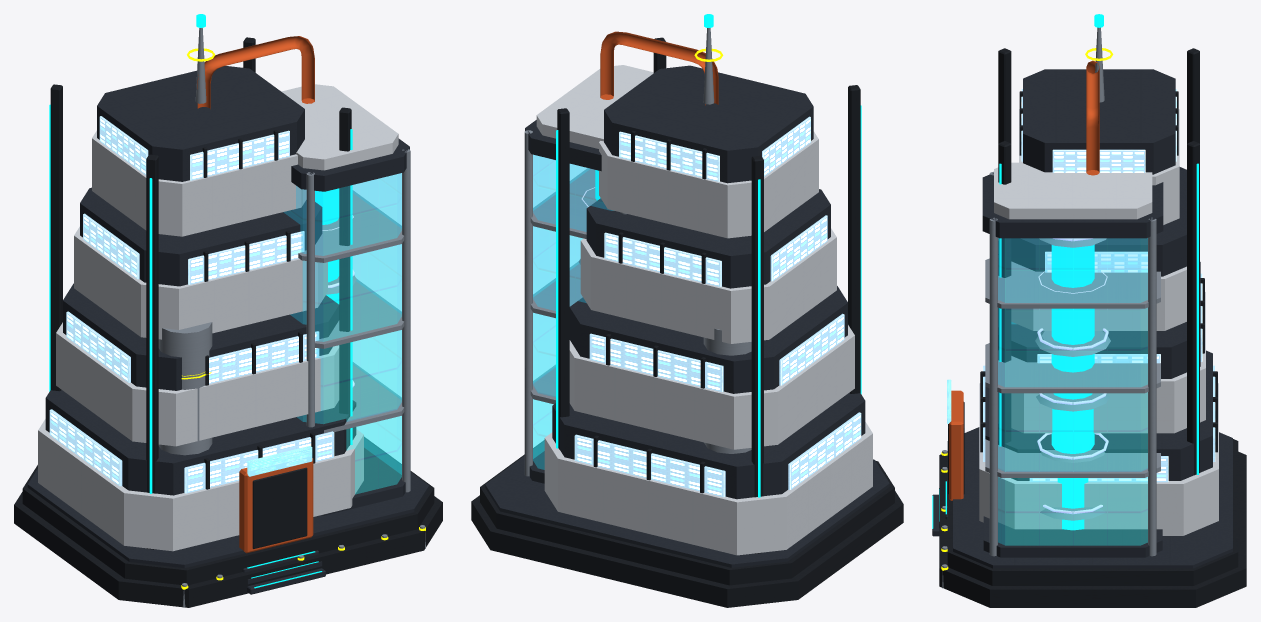
File: bldg_19_r1_04.glb
The picture shows the model from 3 angles, left to right: view 1: azimuth 30°, elevation 25°; view 2: azimuth 150°, elevation 25°; view 3: azimuth 270°, elevation 25°; orthographic projection. The views are drawn at different scales.
Visible parts, largest first — view 1: Bldg19_C04_aero_white, Bldg19_C04_carbon_slate, Bldg19_C04_gunmetal, Bldg19_C04_glass_cyan, Bldg19_C04_window_lit, Bldg19_C04_steel_machined, Bldg19_C04_accent_orange, Bldg19_C04_led_cyan, Bldg19_C04_marquee; view 2: Bldg19_C04_aero_white, Bldg19_C04_carbon_slate, Bldg19_C04_gunmetal, Bldg19_C04_window_lit, Bldg19_C04_glass_cyan, Bldg19_C04_steel_machined, Bldg19_C04_led_cyan, Bldg19_C04_accent_orange; view 3: Bldg19_C04_glass_cyan, Bldg19_C04_carbon_slate, Bldg19_C04_aero_white, Bldg19_C04_gunmetal, Bldg19_C04_steel_machined, Bldg19_C04_led_cyan, Bldg19_C04_window_lit, Bldg19_C04_accent_orange, Bldg19_C04_led_uv.
Part boxes in pixels (x1,y1,x2,y2): Bldg19_C04_aero_white: (38, 84, 398, 551); Bldg19_C04_carbon_slate: (27, 66, 429, 594); Bldg19_C04_gunmetal: (14, 37, 442, 607); Bldg19_C04_glass_cyan: (283, 173, 401, 494); Bldg19_C04_window_lit: (49, 116, 334, 493); Bldg19_C04_steel_machined: (158, 28, 425, 607); Bldg19_C04_accent_orange: (197, 36, 314, 553); Bldg19_C04_led_cyan: (49, 14, 352, 588); Bldg19_C04_marquee: (247, 446, 312, 476); Bldg19_C04_aero_white: (536, 65, 872, 555); Bldg19_C04_carbon_slate: (485, 65, 889, 567); Bldg19_C04_gunmetal: (471, 37, 903, 607); Bldg19_C04_window_lit: (574, 116, 861, 497); Bldg19_C04_glass_cyan: (533, 154, 613, 469); Bldg19_C04_steel_machined: (524, 28, 751, 476); Bldg19_C04_led_cyan: (556, 14, 861, 497); Bldg19_C04_accent_orange: (600, 31, 718, 105); Bldg19_C04_glass_cyan: (998, 238, 1147, 545); Bldg19_C04_carbon_slate: (932, 69, 1232, 568); Bldg19_C04_aero_white: (979, 109, 1218, 535); Bldg19_C04_gunmetal: (939, 48, 1246, 607); Bldg19_C04_steel_machined: (942, 27, 1160, 588); Bldg19_C04_led_cyan: (932, 14, 1198, 530); Bldg19_C04_window_lit: (983, 89, 1215, 482); Bldg19_C04_accent_orange: (949, 60, 1099, 500); Bldg19_C04_led_uv: (1037, 238, 1108, 513).
Size of the model in its own units: 12 by 18.02 by 10.23.
Materials: 11 (11 with a texture image).
